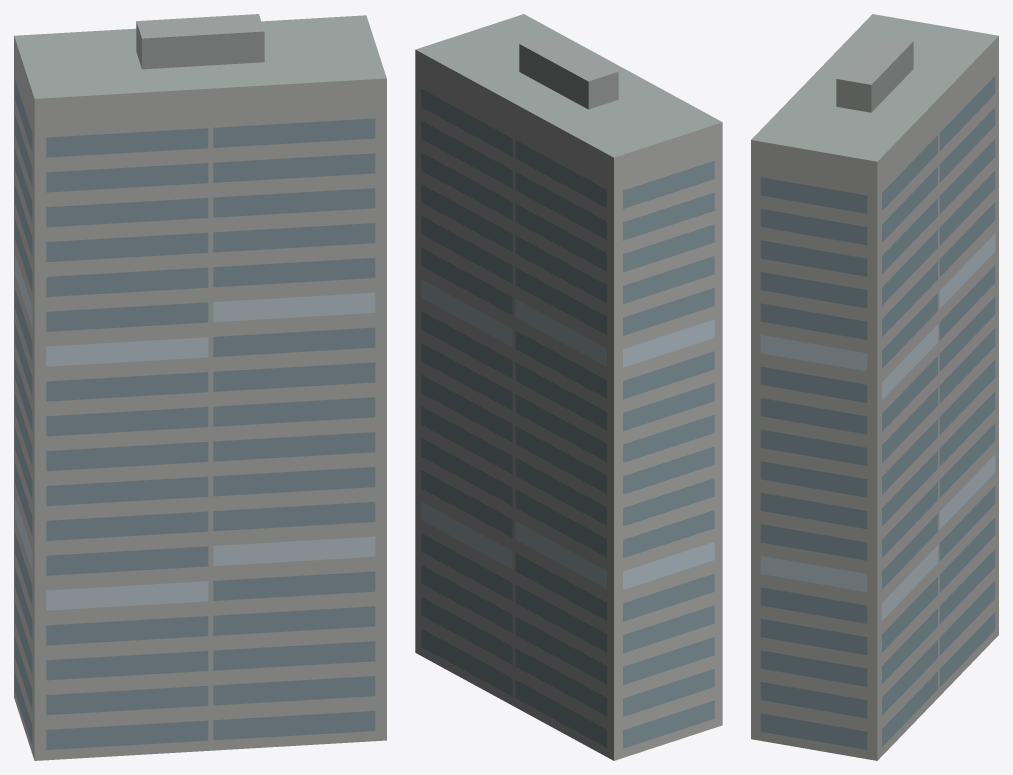
File: fallback-jamsil-els-169.glb
3 renders of one model, left to right at view 1: azimuth 30°, elevation 25°; view 2: azimuth 150°, elevation 25°; view 3: azimuth 270°, elevation 25°, orthographic. The views are drawn at different scales.
Parts seen in each view (by area): view 1: fallback-jamsil-els-169; view 2: fallback-jamsil-els-169; view 3: fallback-jamsil-els-169.
Boxes of the visible parts, box(x1,y1,x2,y2) form: fallback-jamsil-els-169: box(14, 14, 386, 760); fallback-jamsil-els-169: box(415, 14, 722, 760); fallback-jamsil-els-169: box(751, 14, 998, 760).
Bounding box in the file's own units: 27.28 × 54 × 19.35.
